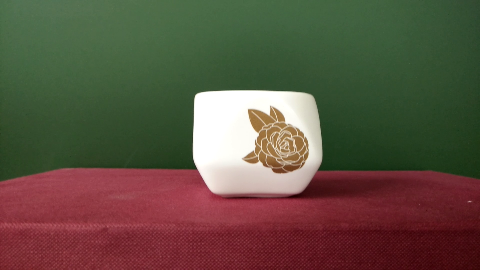flower: (239, 103, 310, 175)
